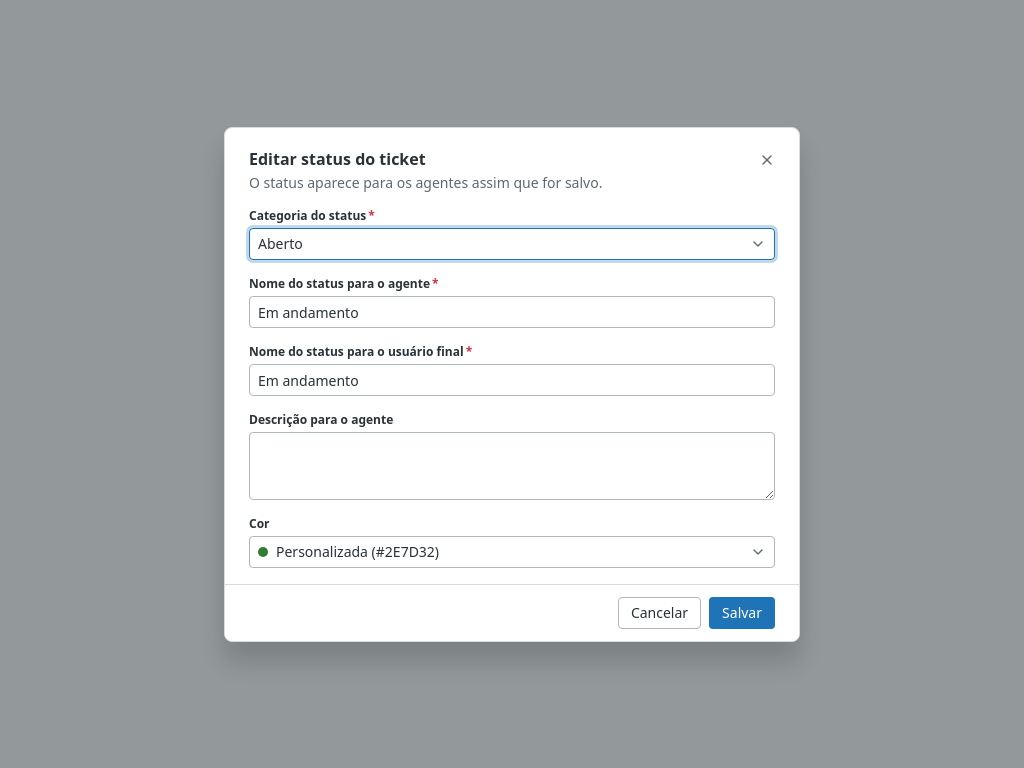
StatusModal: erros do backend no formulário › categoria recusada por tickets em uso (400) aparece no campo Categoria
Click the button "Salvar".
click(742, 612)  # box [709, 596, 775, 628]
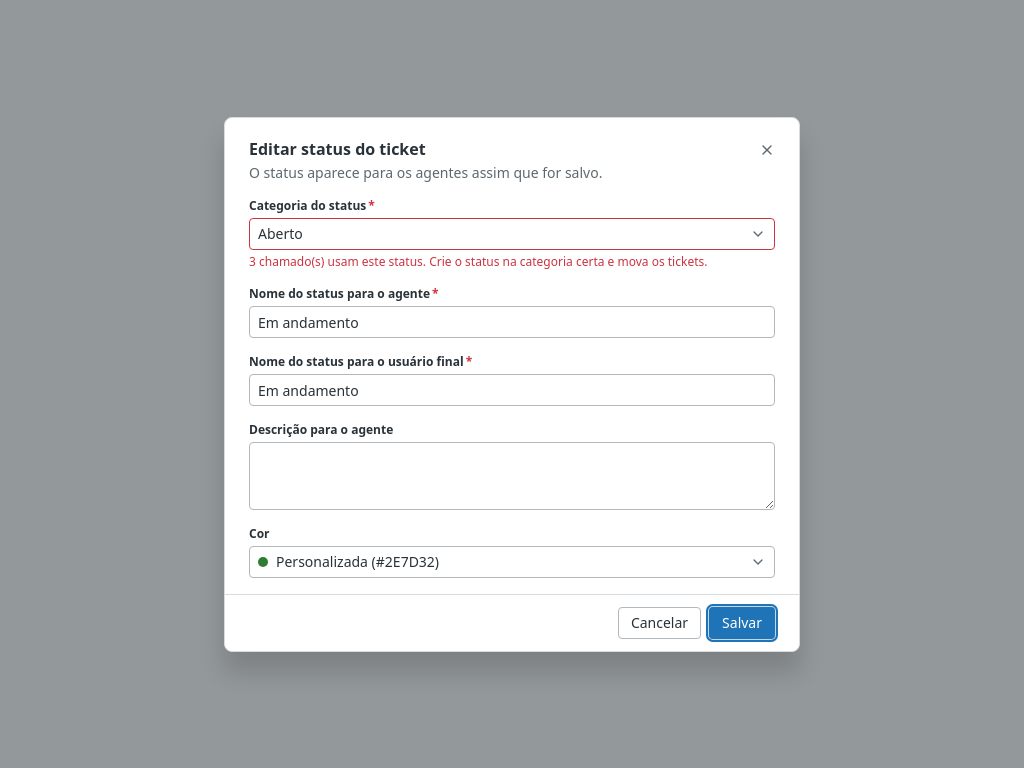
Check: the field labelled "Nome do status para o agente*" holds "Em andamento", box [250, 306, 774, 336]
Check: the text "3 chamado(s) usam este status. Crie o status na categoria certa e mova os tickets." is shown, box [249, 252, 708, 270]
